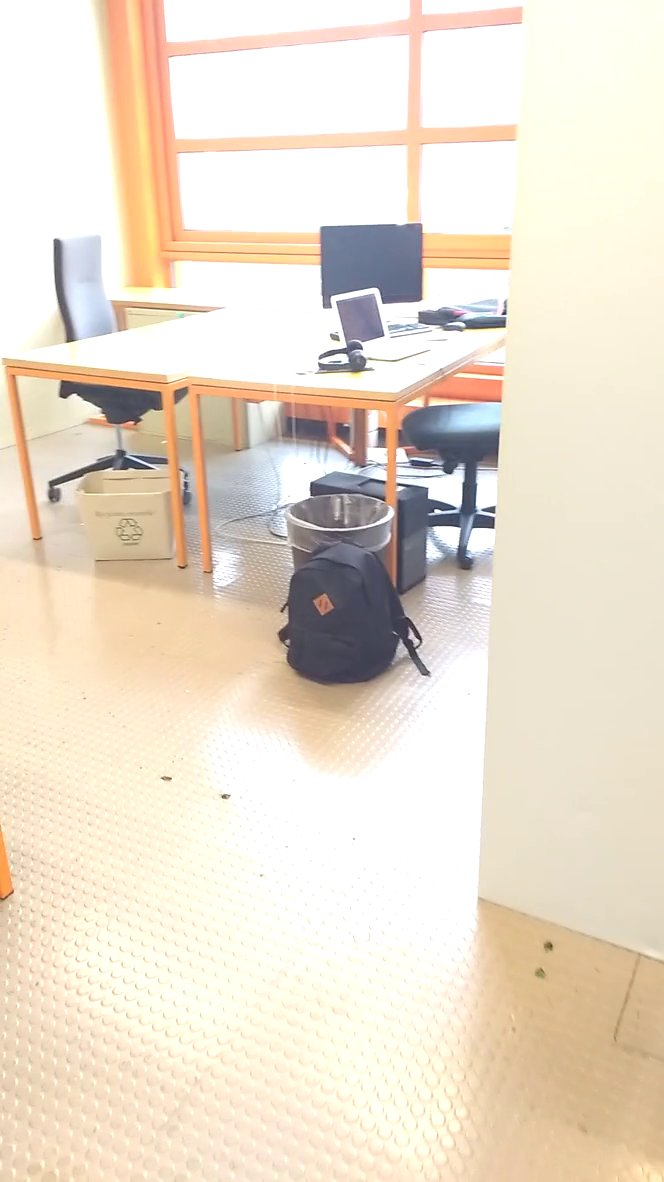bag: (265, 537, 438, 692)
bin: (277, 481, 401, 568)
box: (74, 459, 202, 568)
chair: (38, 213, 194, 426)
laptop: (324, 283, 441, 367)
